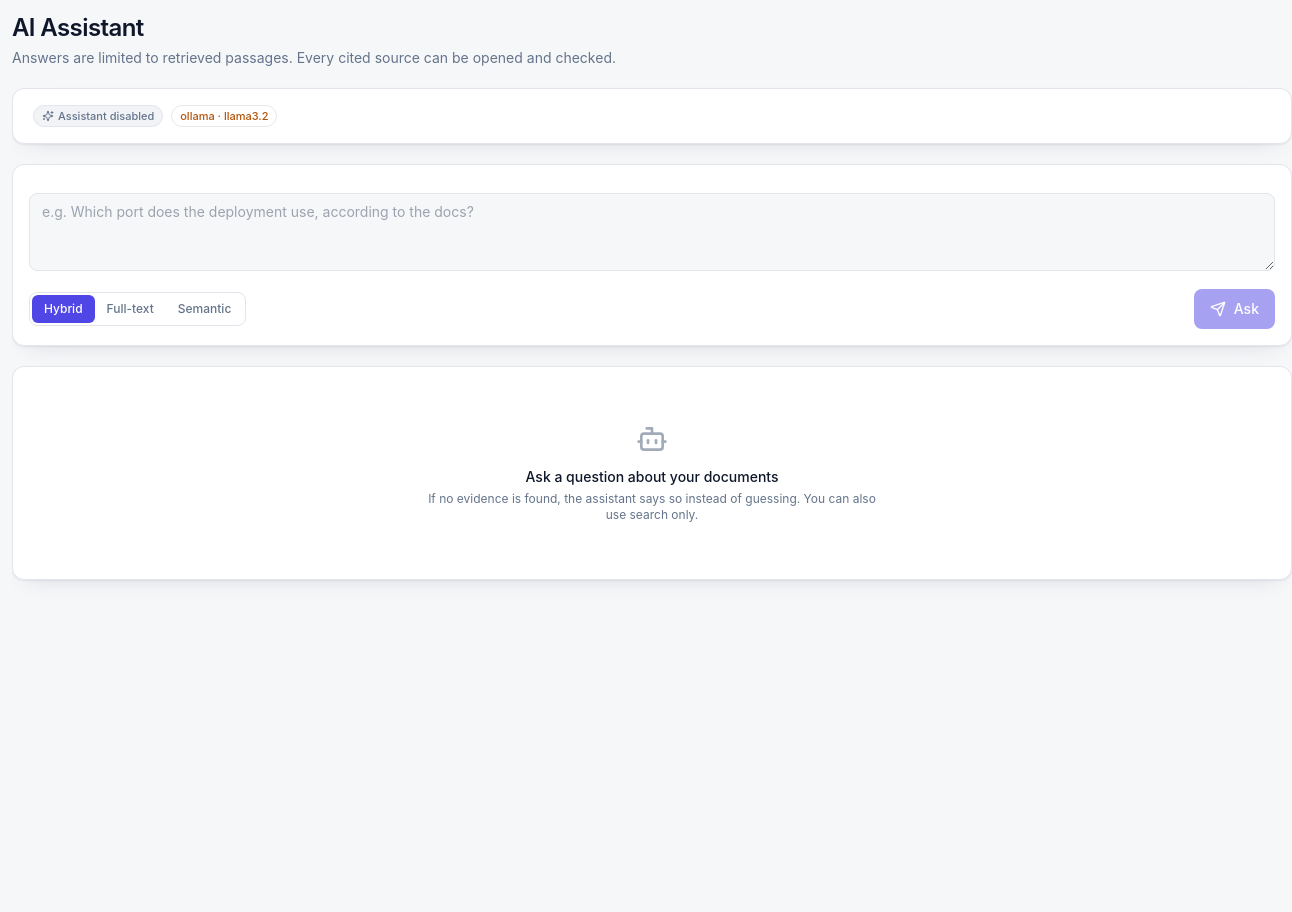
Test case: Assistant page › shows an error when the request fails
This screenshot has width=1292, height=912.
In the text box named "Question": (652, 232) 29,193 -> 1275,271, type "What port?"
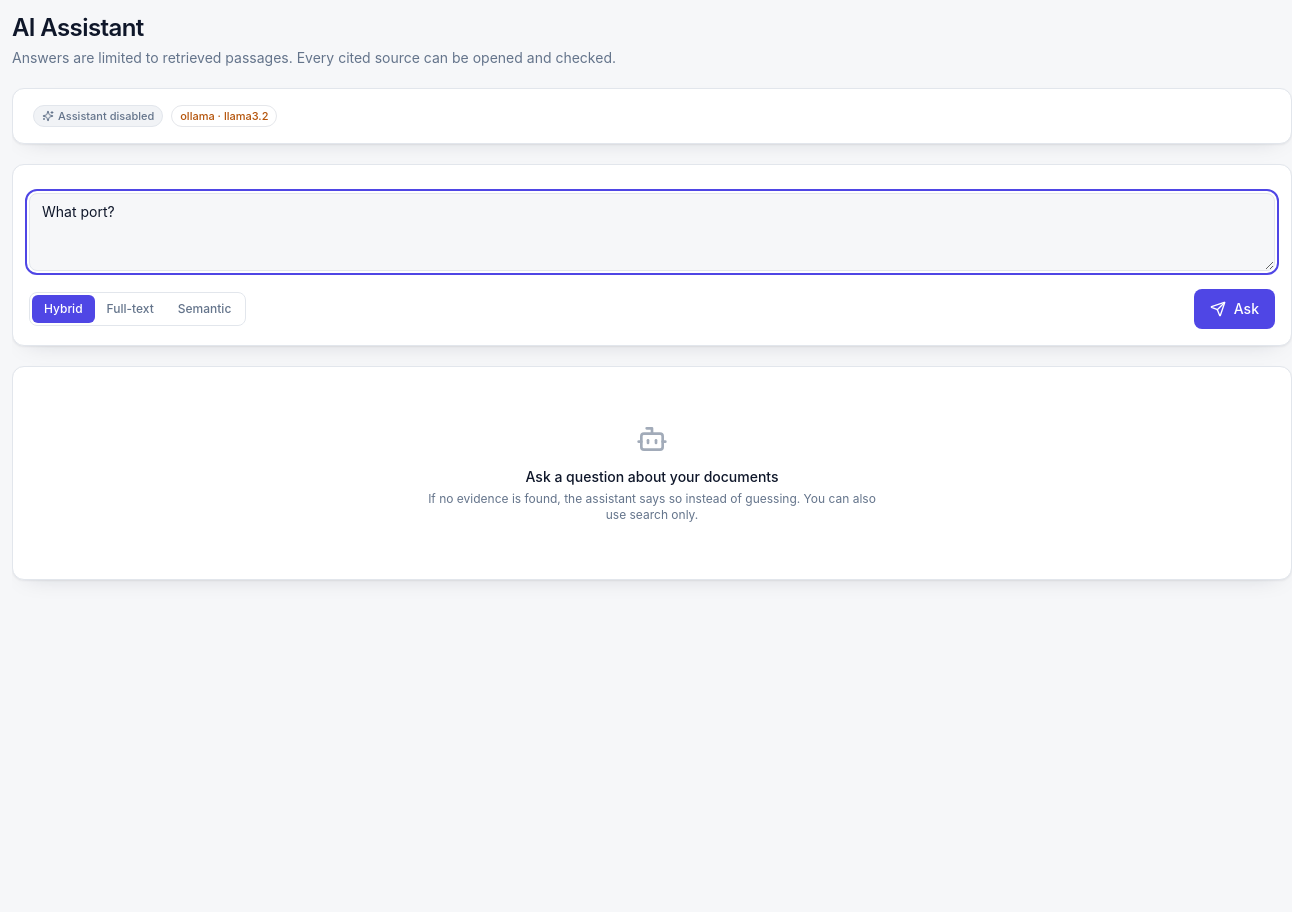
Click the button "Ask": (1234, 309) 1194,289 -> 1275,329
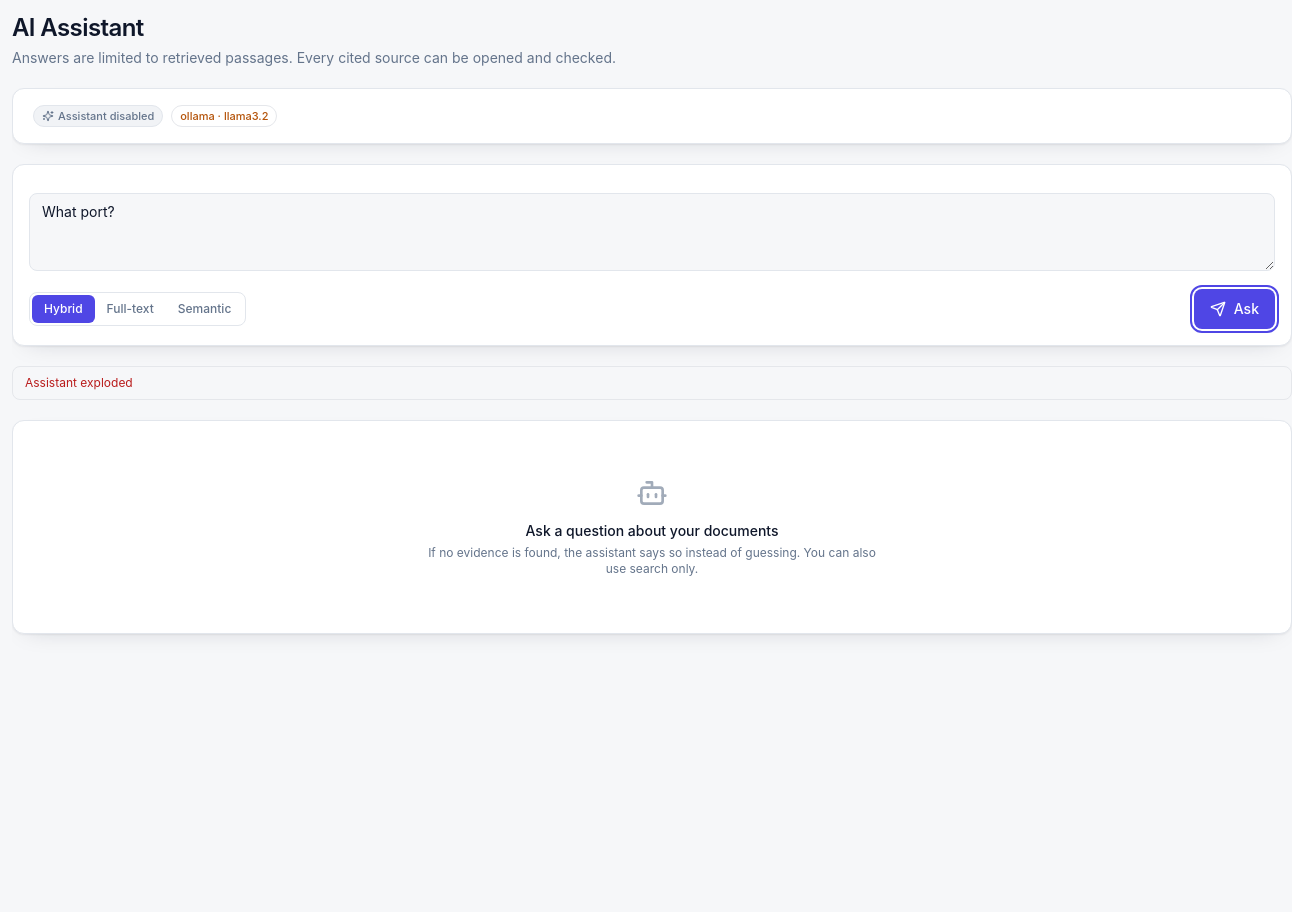
Expected: the message reads "Assistant exploded", 25,375 -> 133,390
